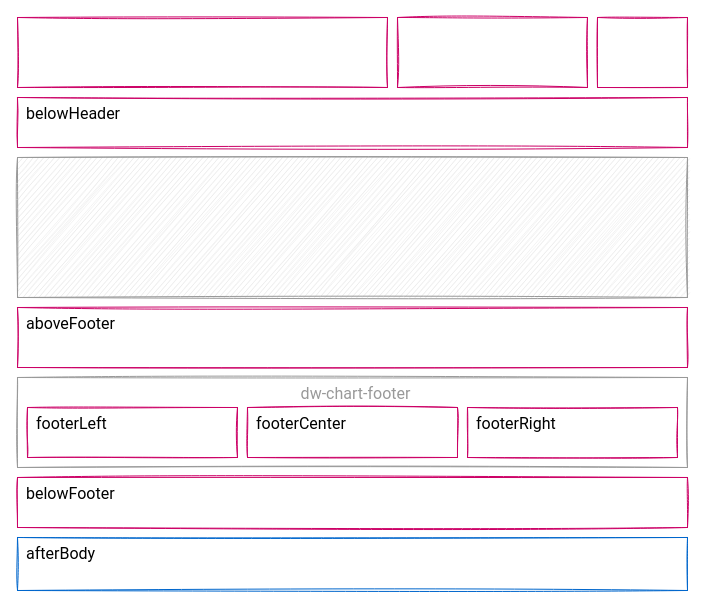
Some shapes in this 705 by 608 pixel diagram are drawn without their labels. The shapes that lost their labels are listed below. From the top down, each one's centre as x and y in pixels, then its label:
At (x=202, y=52): "header".
At (x=492, y=52): "headerRight".
At (x=642, y=52): "menu".
At (x=352, y=227): "dw-chart-body".
